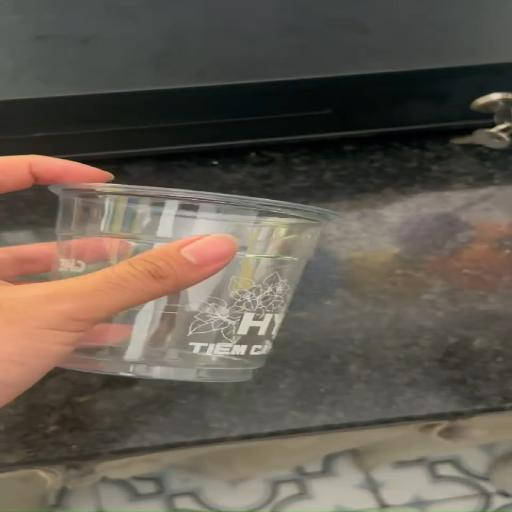ly_nhua: (50, 183, 334, 382)
